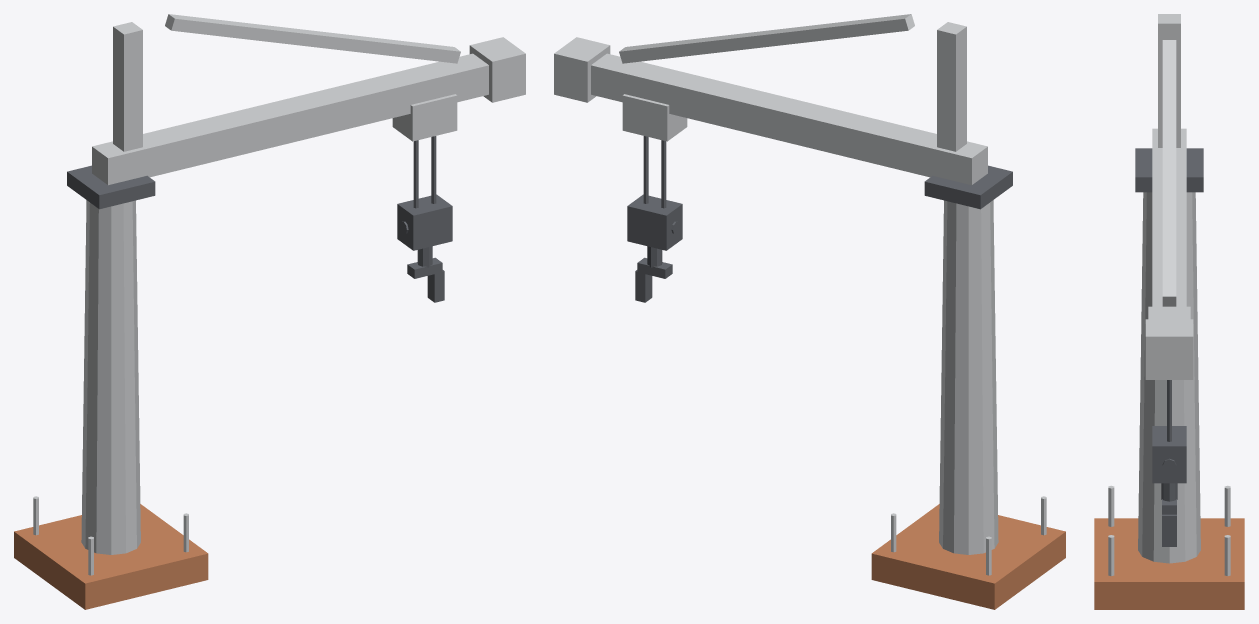
Rendered from shipyard-and-dry-dock-shipyard-and-dry-dock-pillar-jib-1dfcd475__37933.glb.
The picture shows the model from 3 angles, left to right: view 1: azimuth 30°, elevation 25°; view 2: azimuth 150°, elevation 25°; view 3: azimuth 270°, elevation 25°; orthographic projection. The views are drawn at different scales.
Visible parts, largest first — view 1: shipyard-and-dry-dock-pillar-jib-crane, jib-arm, jib-hook; view 2: shipyard-and-dry-dock-pillar-jib-crane, jib-arm, jib-hook; view 3: shipyard-and-dry-dock-pillar-jib-crane, jib-arm, jib-hook.
Boxes of the visible parts, x1,y1,x2,y2 form: shipyard-and-dry-dock-pillar-jib-crane: [14, 165, 208, 609]; jib-arm: [92, 14, 525, 185]; jib-hook: [397, 136, 452, 302]; shipyard-and-dry-dock-pillar-jib-crane: [871, 165, 1065, 609]; jib-arm: [554, 14, 987, 185]; jib-hook: [627, 136, 682, 302]; shipyard-and-dry-dock-pillar-jib-crane: [1094, 148, 1244, 609]; jib-arm: [1145, 14, 1193, 379]; jib-hook: [1152, 380, 1186, 546].
Size of the model in its own units: 8.3 by 9.17 by 2.2.
